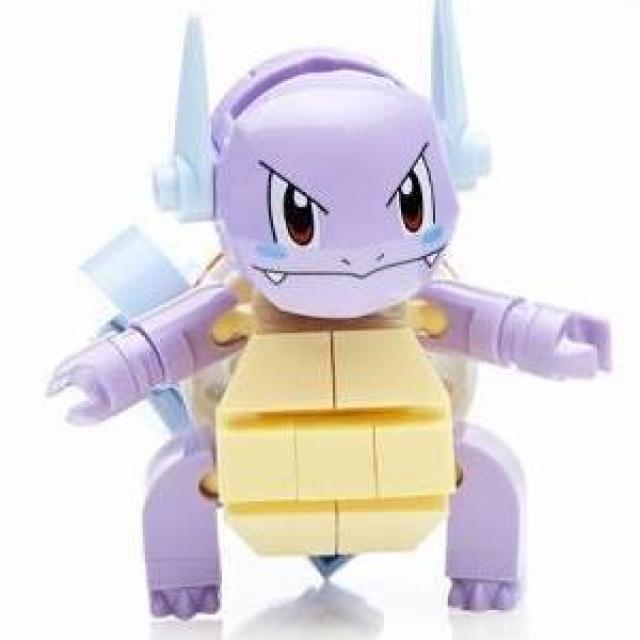Wartortle: (173, 0, 482, 592)
